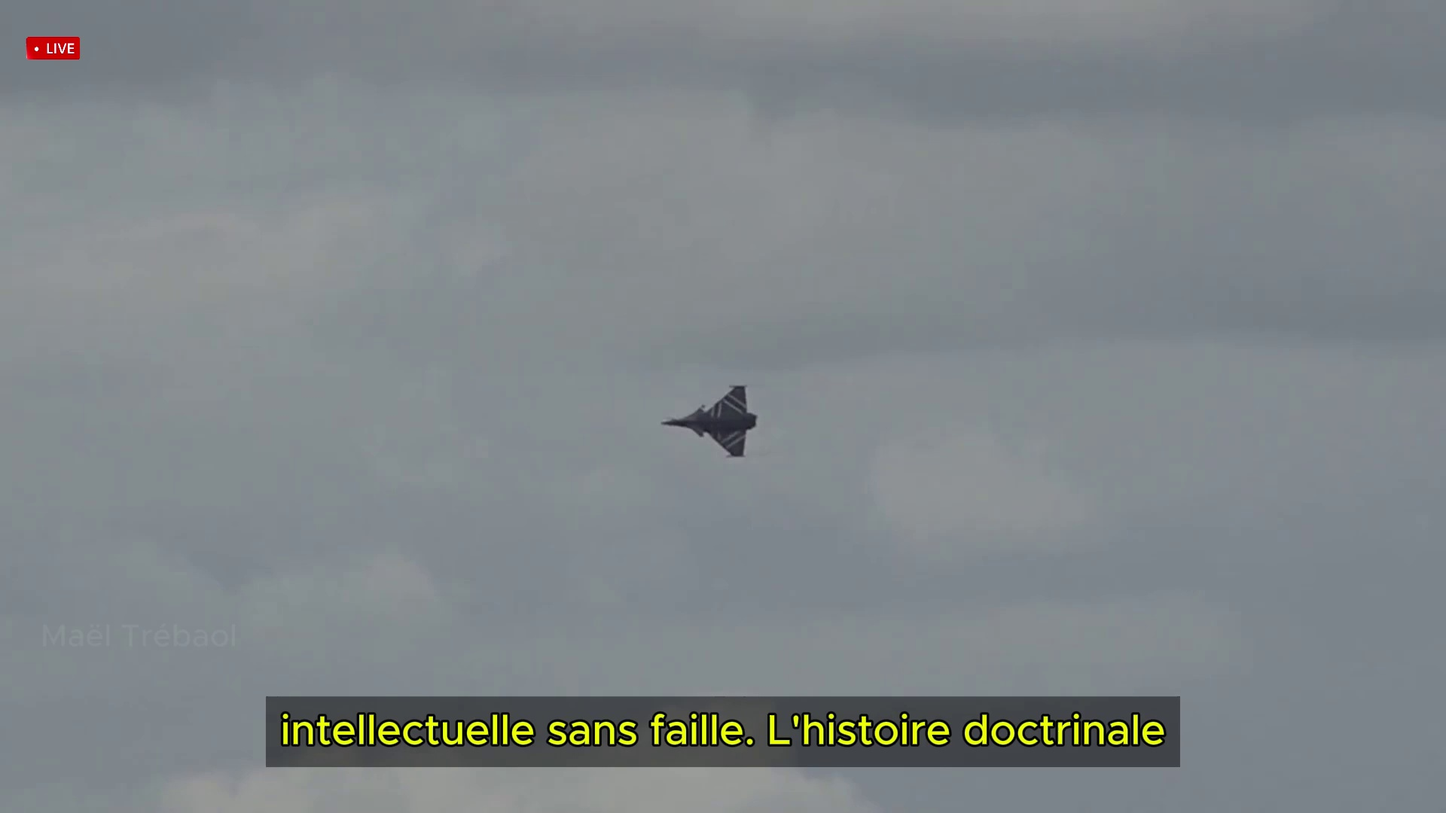Rafale: (659, 381, 760, 459)
